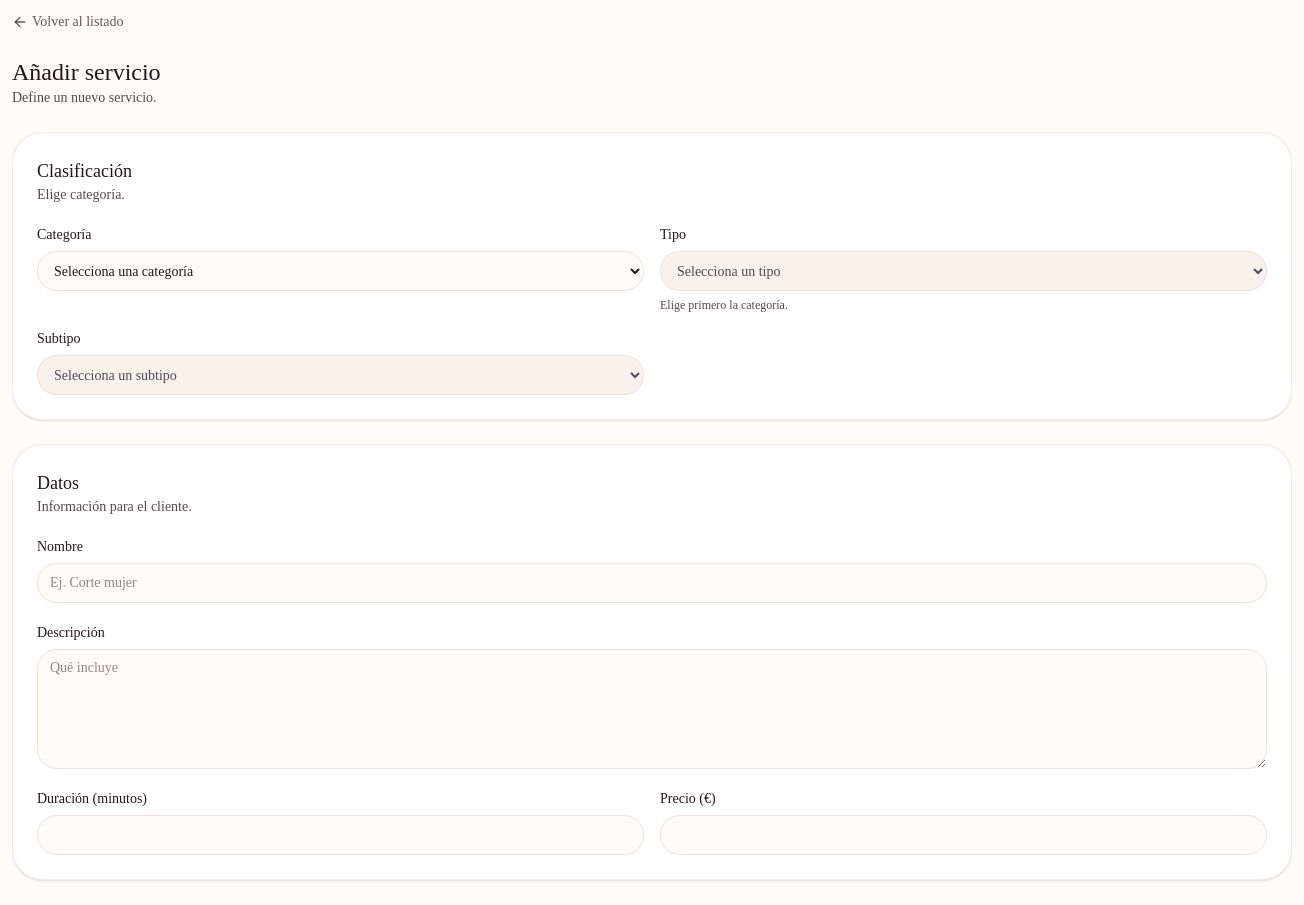
AddServiceForm › habilita el select de tipo al elegir una categoría raíz y muestra sus opciones
Select "Belleza" in the dropdown labelled "Categoría" at [340, 271], box [37, 251, 644, 291]
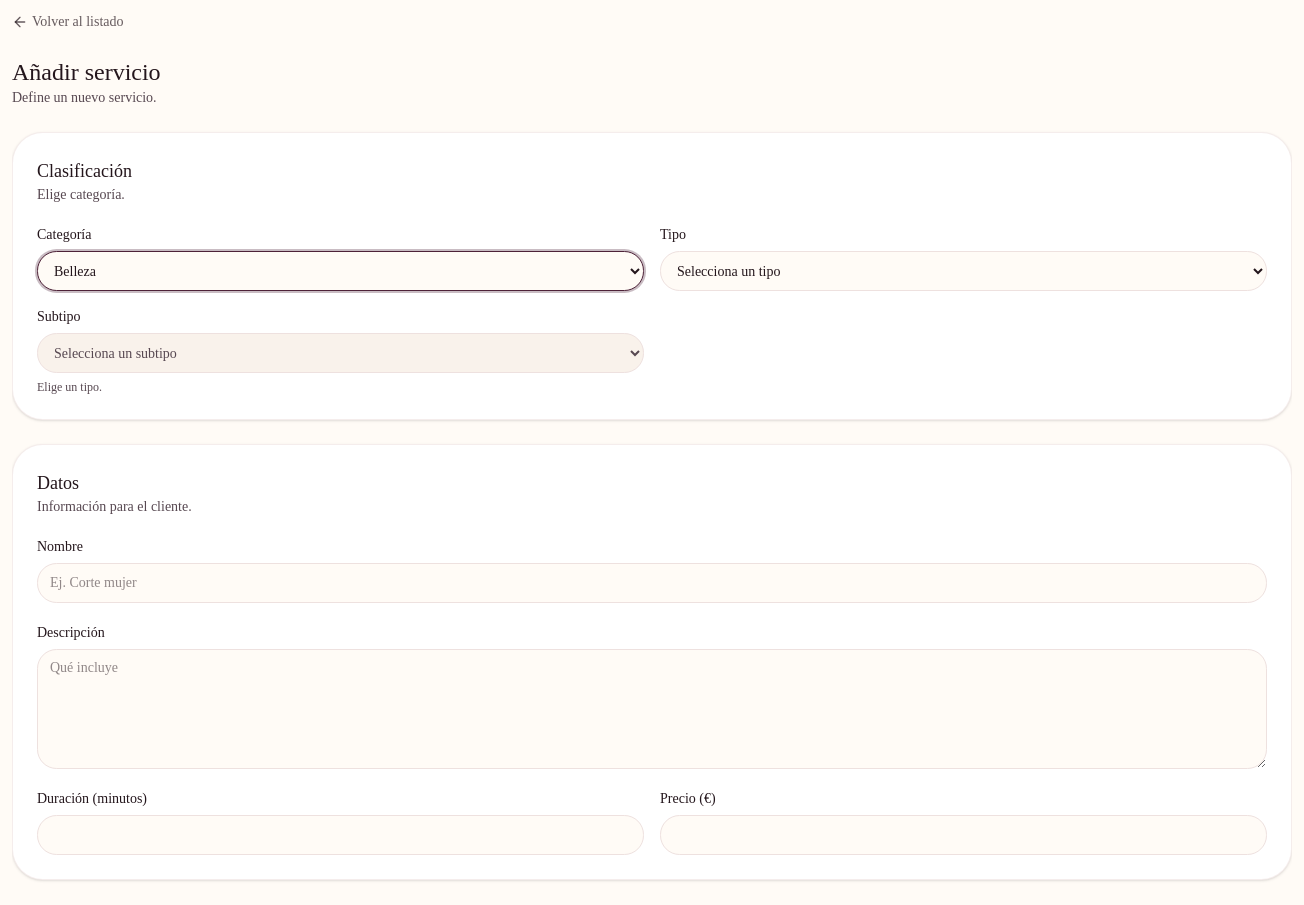
Check: the dropdown labelled "Tipo" is enabled, box [660, 251, 1267, 291]
